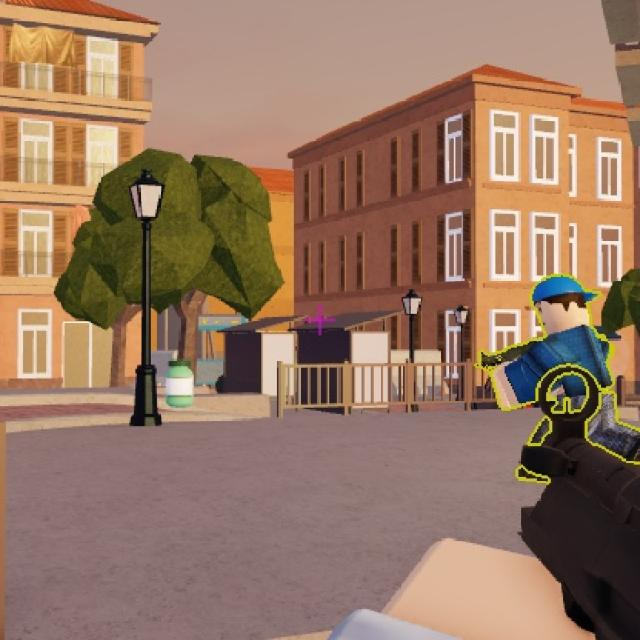player: (504, 278, 622, 364)
